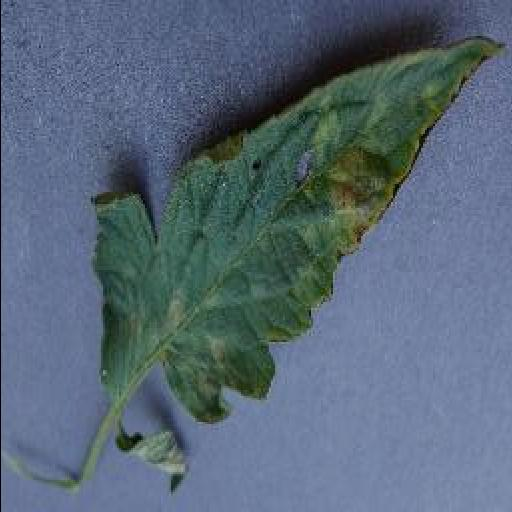disease_tomato: (85, 32, 507, 424)
